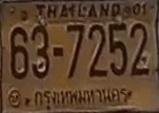2: (130, 22, 150, 75), (89, 24, 107, 76)
3: (31, 25, 49, 78)
5: (108, 22, 127, 76)
6: (10, 26, 28, 78)
7: (66, 24, 84, 76)
BKK: (29, 85, 130, 108)
